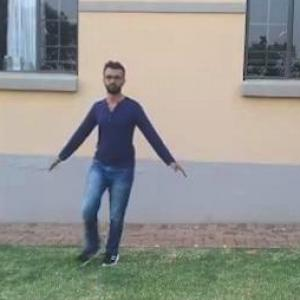land: (40, 64, 184, 254)
